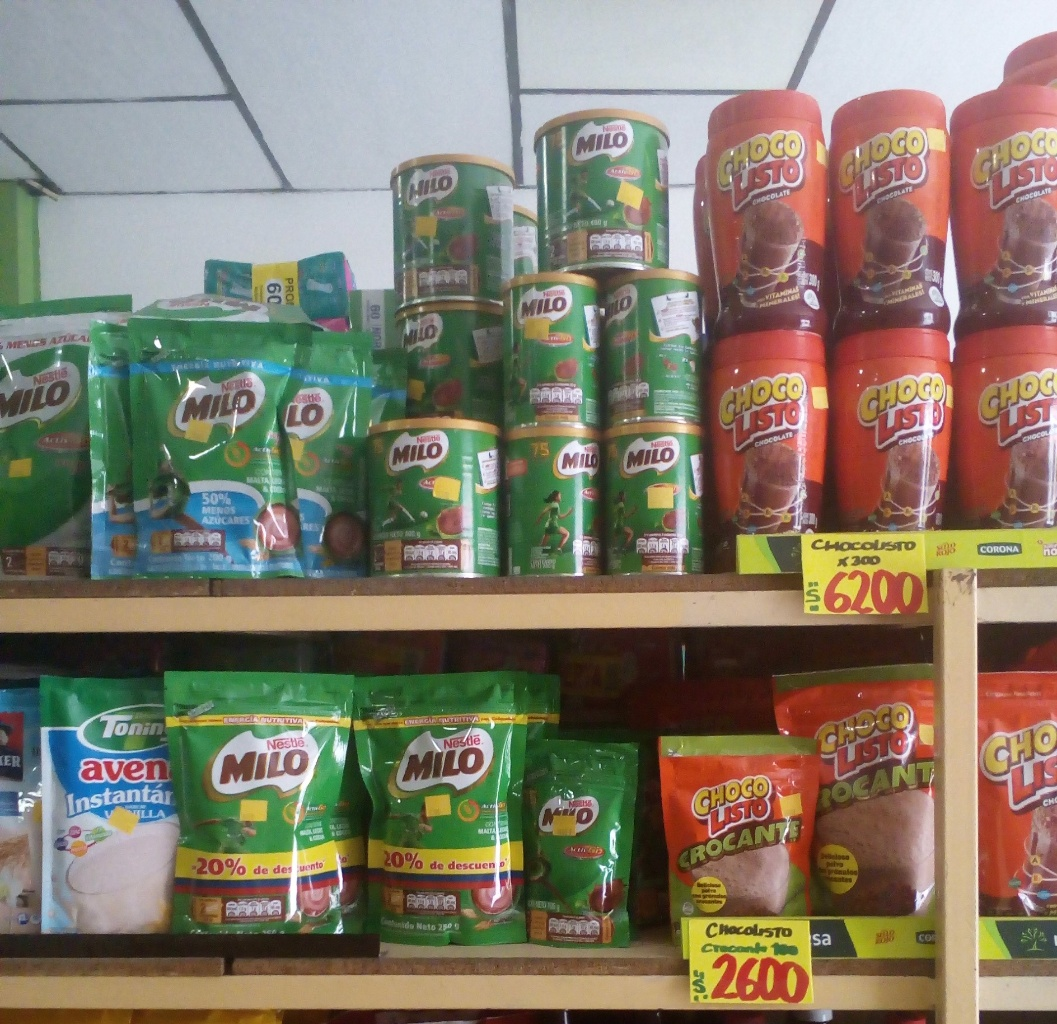COL0170102DYP10000: (662, 729, 814, 946)
COL0170102DYP25000: (781, 667, 934, 916)
COL0170103DYP20000: (975, 659, 1054, 924)
COL0170103TRR30000: (697, 85, 824, 337)
COL0170203DYP10000: (522, 726, 656, 954)
COL0170203DYP25000: (171, 669, 351, 958)
COL0170203LAT20000: (603, 276, 712, 428)
COL0170203LAT40000: (386, 155, 513, 301)
COL0170205DYP20000: (127, 319, 293, 575)
COL0170205DYP50000: (1, 299, 132, 587)
